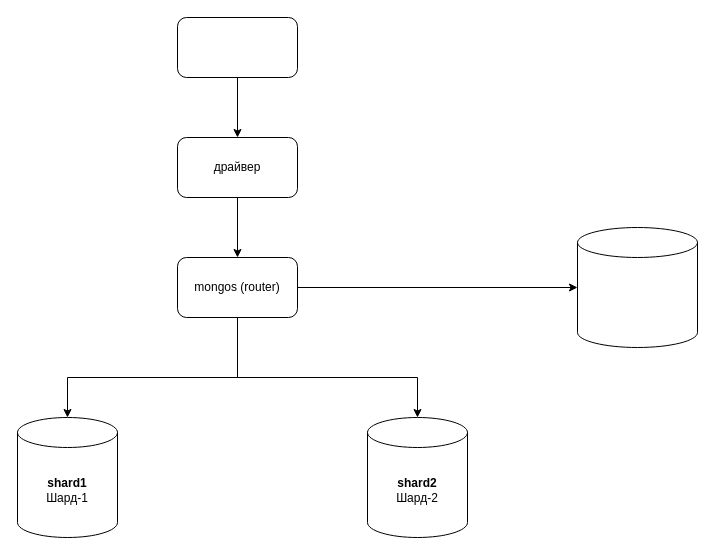
Image size: 715x555. Some labels were removed from this diagram. Here are the shapes that lost their labels. From the top down, the box of each, then its label:
(176, 16, 298, 78): pymongo-api
(576, 226, 698, 348): configSrv Конфигурационный сервер
